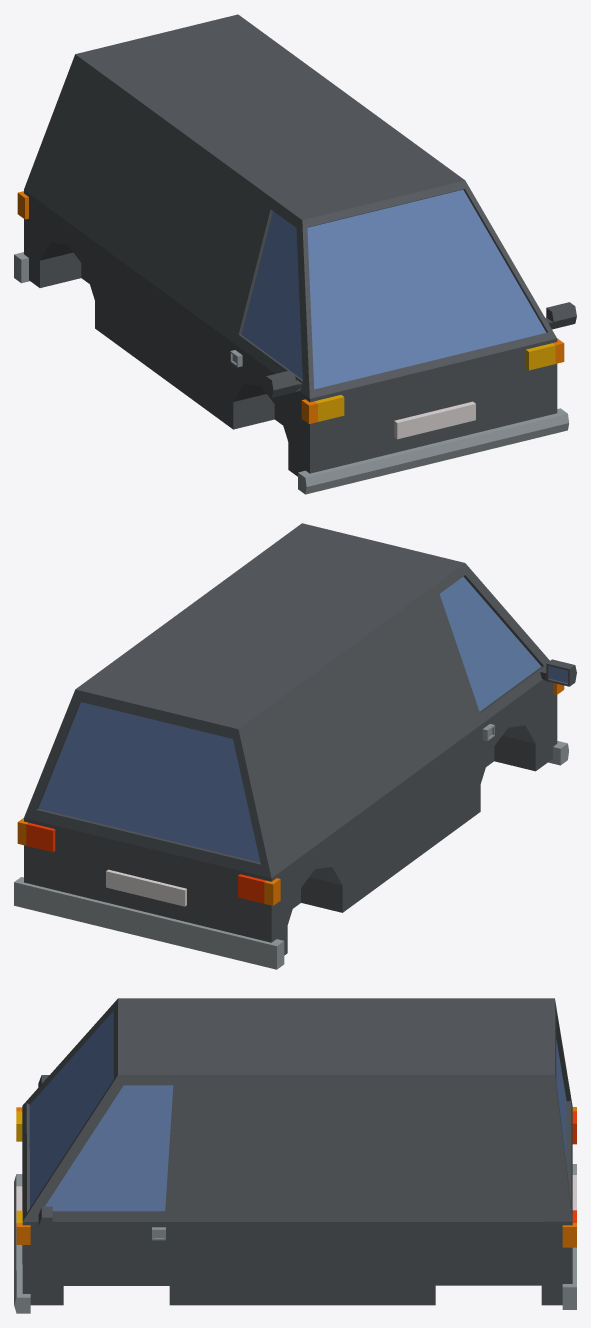
Rendered from Car_10.fbx.
3 views of the same model, one above another, from view 1: azimuth 30°, elevation 25°; view 2: azimuth 150°, elevation 25°; view 3: azimuth 270°, elevation 25° (orthographic). The views are drawn at different scales.
Parts seen in each view (by area): view 1: Car_10; view 2: Car_10; view 3: Car_10.
Boxes of the visible parts, left/top/right/bottom form: Car_10: left=14, top=14, right=576, bottom=494; Car_10: left=14, top=523, right=576, bottom=969; Car_10: left=14, top=998, right=576, bottom=1313.
Bounding box in the file's own units: 4.36 × 3.06 × 7.27.
